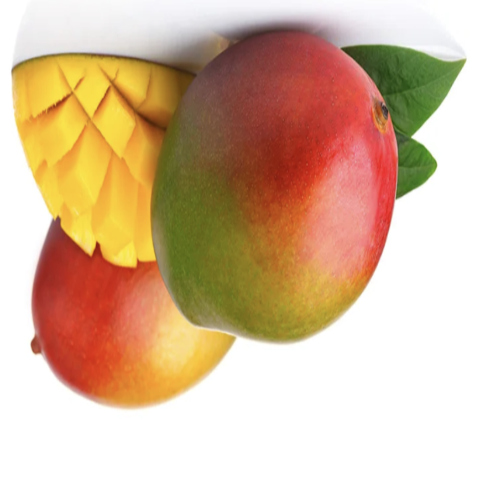mango: (139, 23, 418, 352), (8, 160, 268, 422)
